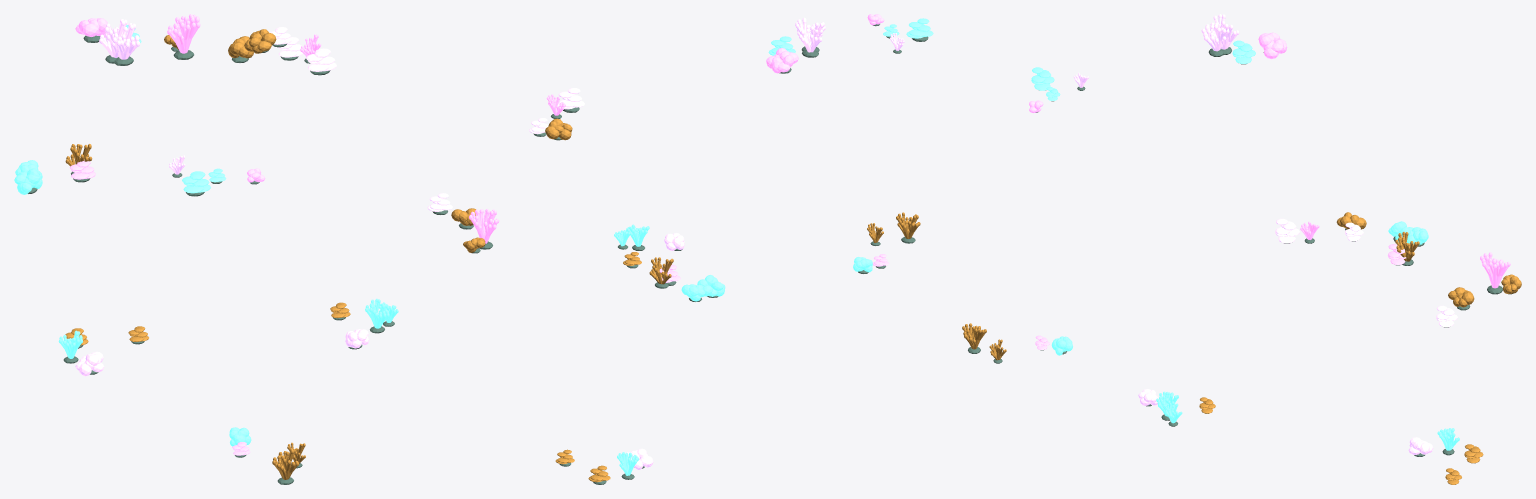
The model's file is coral_05.glb.
The picture shows the model from 3 angles, left to right: view 1: azimuth 30°, elevation 25°; view 2: azimuth 150°, elevation 25°; view 3: azimuth 270°, elevation 25°; orthographic projection. The views are drawn at different scales.
Visible parts, largest first — view 1: coral_05; view 2: coral_05; view 3: coral_05.
Boxes of the visible parts, x1,y1,x2,y2 form: coral_05: [14, 14, 398, 484]; coral_05: [427, 14, 933, 484]; coral_05: [962, 14, 1521, 484].
Bounding box in the file's own units: 49.57 × 61.44 × 77.79.
